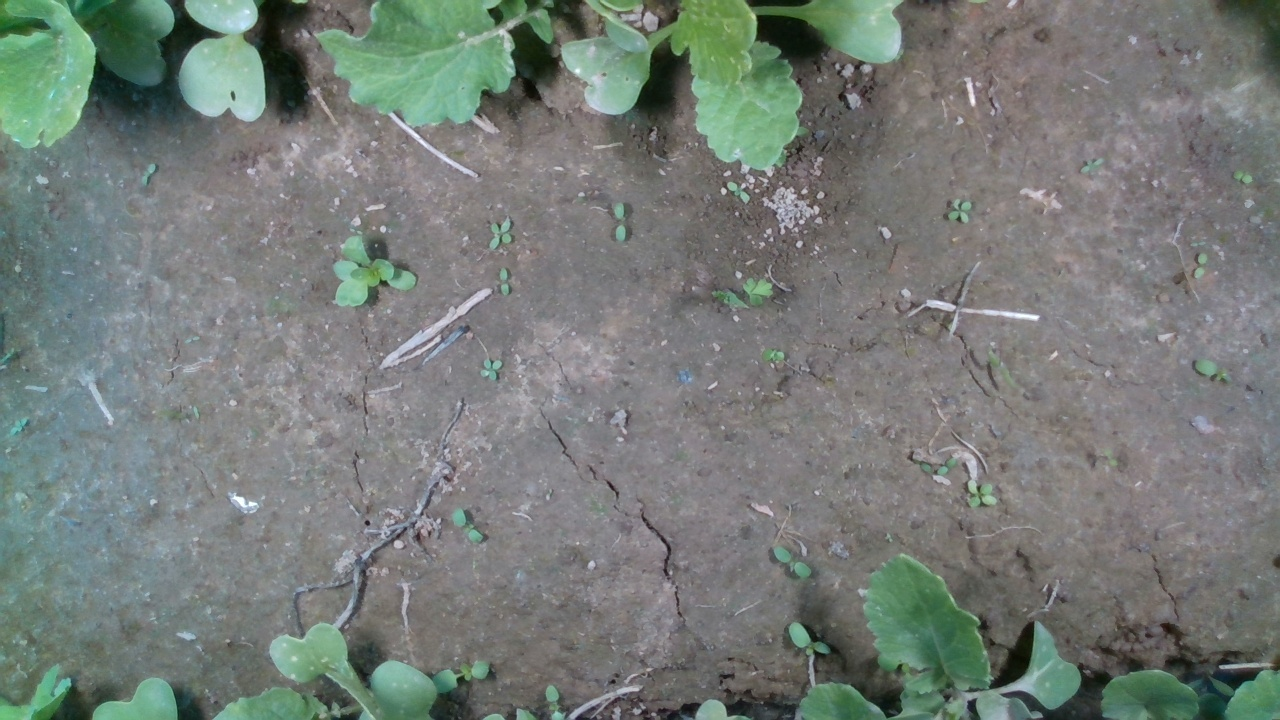weed: (712, 276, 776, 309), (787, 620, 833, 656), (770, 544, 814, 578), (448, 507, 482, 543), (1194, 358, 1234, 382), (966, 479, 999, 507), (486, 219, 515, 249), (611, 199, 629, 244), (945, 196, 972, 225), (478, 358, 502, 380), (724, 181, 749, 202), (138, 163, 158, 187), (1192, 252, 1209, 279), (498, 265, 511, 298), (1080, 156, 1105, 173), (761, 347, 784, 363), (1232, 170, 1255, 185)
